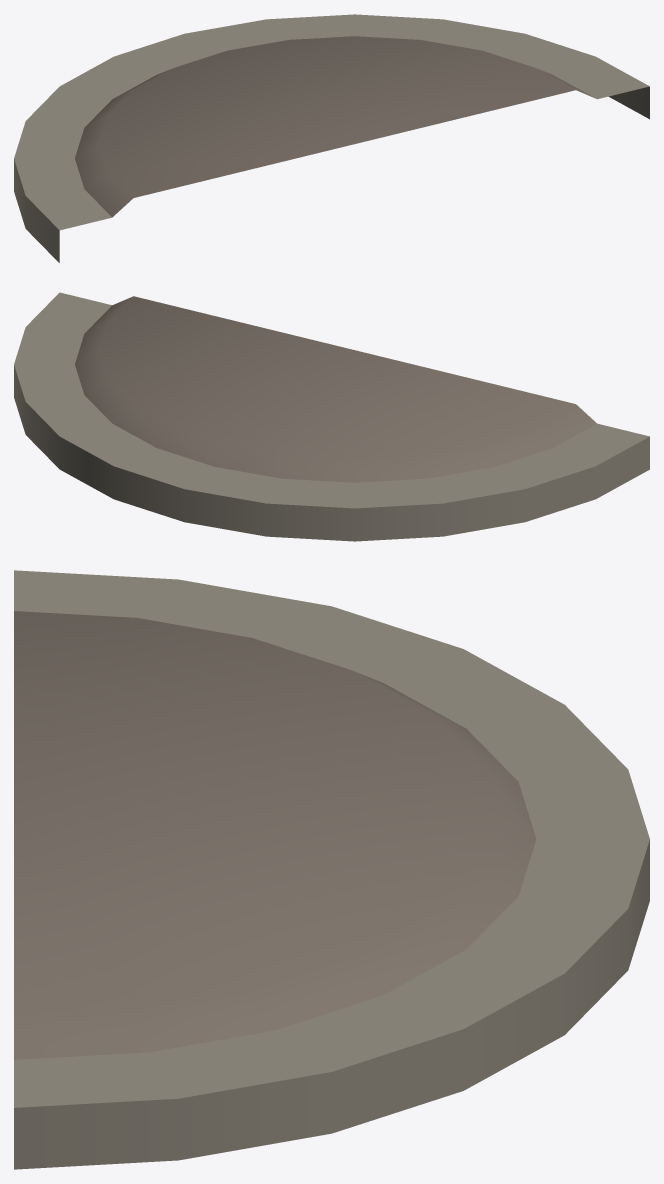
File: RoadMid_3_C.fbx
3 views of the same model, one above another, from view 1: azimuth 30°, elevation 25°; view 2: azimuth 150°, elevation 25°; view 3: azimuth 270°, elevation 25° (orthographic). The views are drawn at different scales.
Visible parts, largest first — view 1: RoadMid_3_C; view 2: RoadMid_3_C; view 3: RoadMid_3_C.
Boxes of the visible parts, left/top/right/bottom form: RoadMid_3_C: left=14, top=14, right=649, bottom=262; RoadMid_3_C: left=14, top=292, right=649, bottom=541; RoadMid_3_C: left=14, top=570, right=649, bottom=1169.
Bounding box in the file's own units: 299 × 22.96 × 150.
